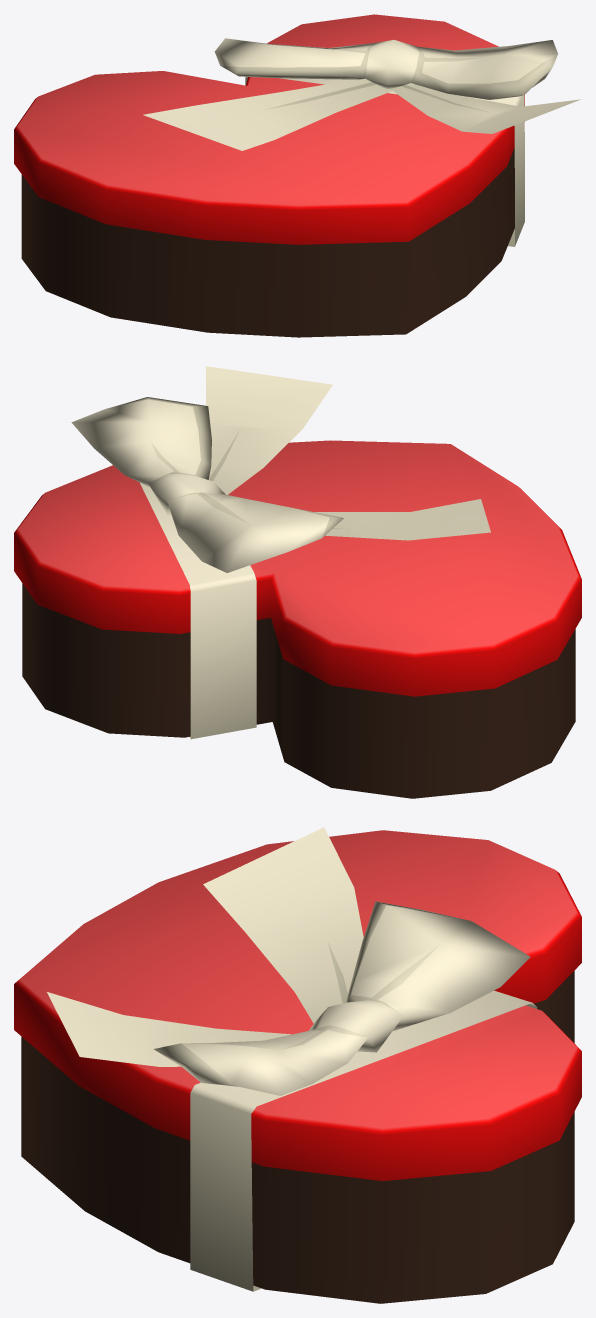
File: CRvalentine_chocolet.FBX
3 views of the same model, one above another, from view 1: azimuth 30°, elevation 25°; view 2: azimuth 150°, elevation 25°; view 3: azimuth 270°, elevation 25° (orthographic). The views are drawn at different scales.
Parts seen in each view (by area): view 1: valentine_chocolet; view 2: valentine_chocolet; view 3: valentine_chocolet.
Part boxes in pixels (x1,y1,x2,y2): valentine_chocolet: (14, 14, 580, 337); valentine_chocolet: (14, 366, 581, 798); valentine_chocolet: (14, 827, 581, 1303).
Size of the model in its own units: 40.08 by 14.09 by 31.04.
1 material, 1 textured.
